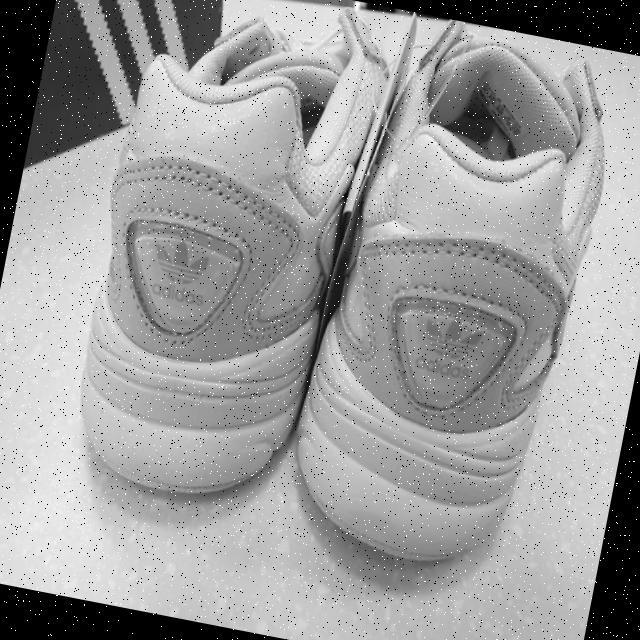Adidas: (138, 219, 219, 297), (416, 300, 490, 373)
